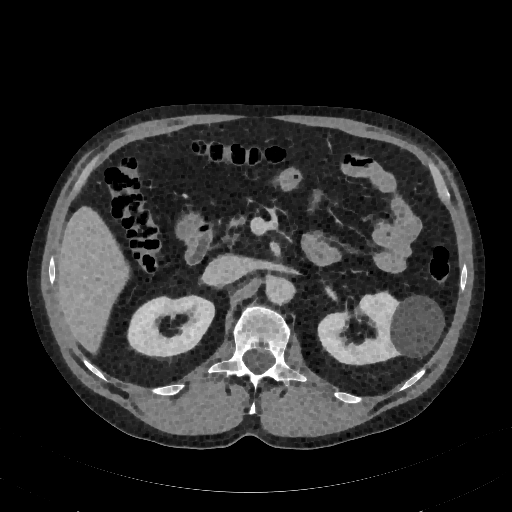Lesion: (388, 288, 448, 361)
